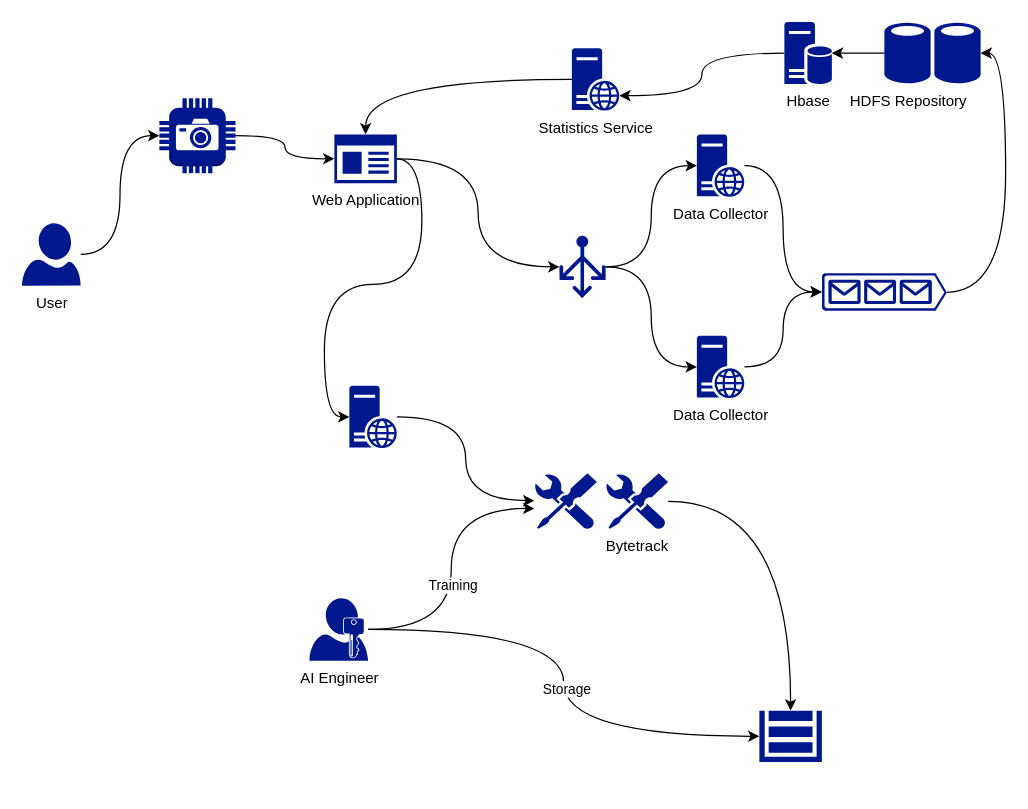
Image size: 1028x809. Some labels were removed from this diagram. Here are the shapes that lost their labels. From the top down, the centre of each, then its label:
the point at 197,135: Camera
the point at 582,266: Load Balancer
the point at 372,416: Attendance Service
the point at 565,500: YOLOV8
the point at 790,735: Data set
